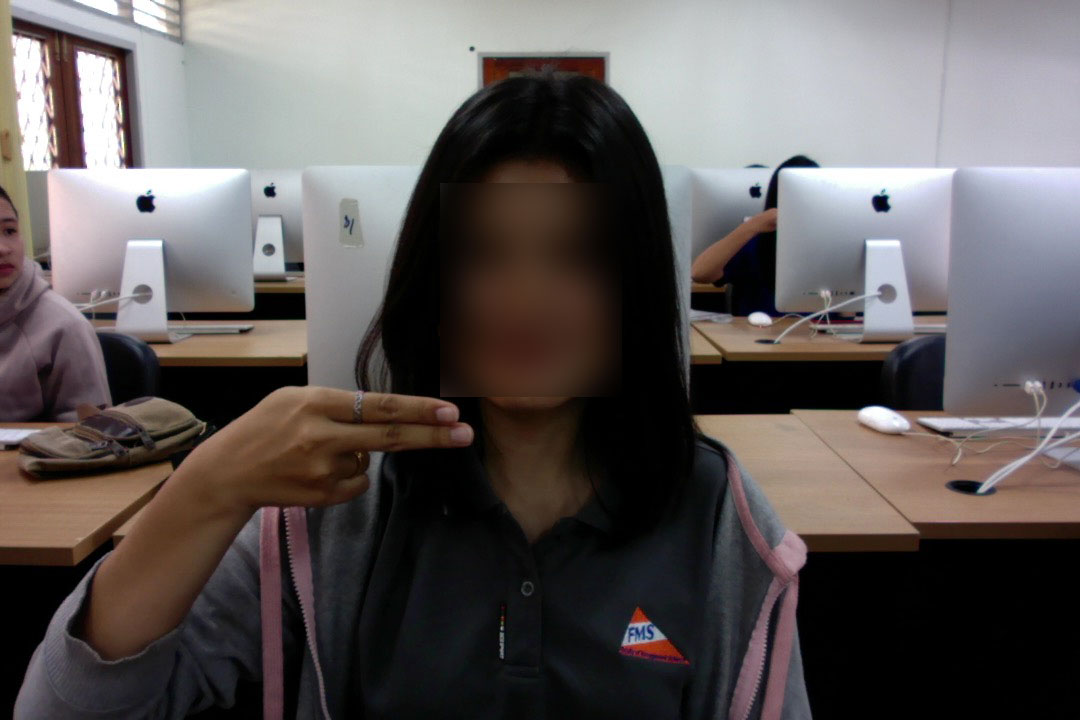hor: (148, 381, 481, 512)
